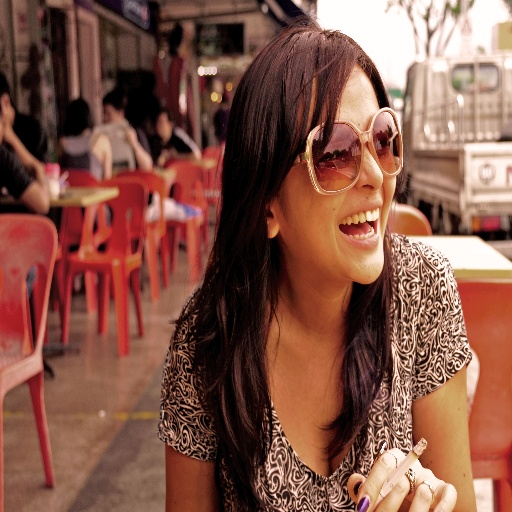hand: (349, 448, 453, 512), (124, 125, 137, 144), (4, 118, 13, 140)
